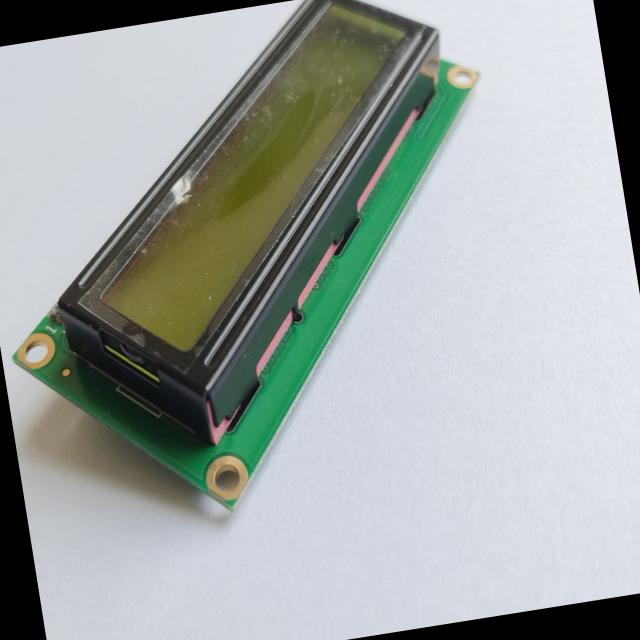lcd: (0, 0, 549, 565)
